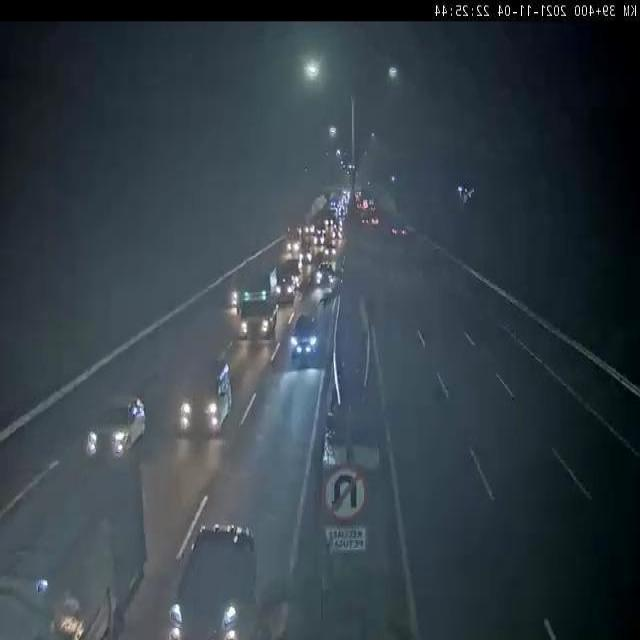Car: (163, 522, 262, 640), (83, 392, 146, 462), (289, 316, 322, 364)
Truck: (0, 454, 149, 640), (238, 266, 280, 341)
Van: (177, 360, 233, 439)
